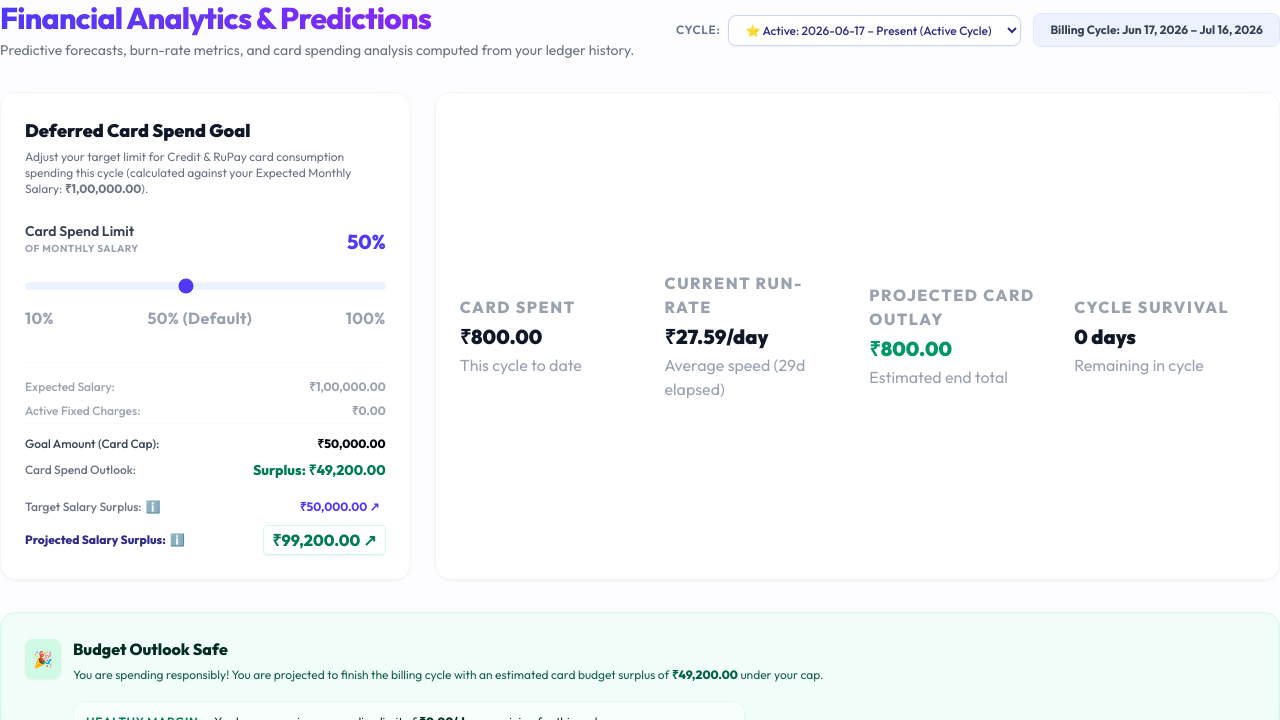
Test: Financial Analytics Page Integration and UI Rendering › updates target amounts and updates forecast alerts dynamically when slider changes value
Expected: the heading "Financial Analytics & Predictions" is shown, [0,0,634,36]
Set the slider with test id "target-budget-slider" to "10" at (33, 286), box [25,282,386,290]
(page scrolled)
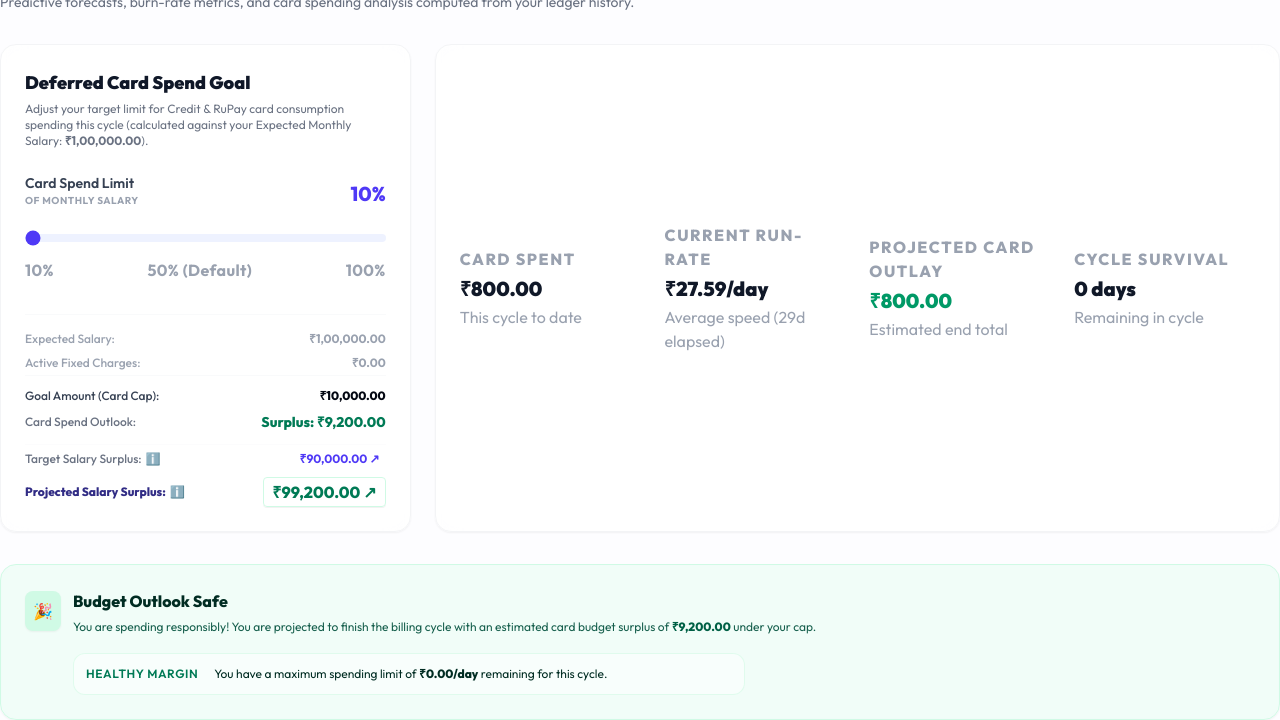
Expected: the text with test id "projected-savings-amount" reads "Surplus: ₹9,200.00", [261,413,386,431]
Expected: the text with test id "target-budget-amount" reads "₹10,000.00", [320,388,386,403]
